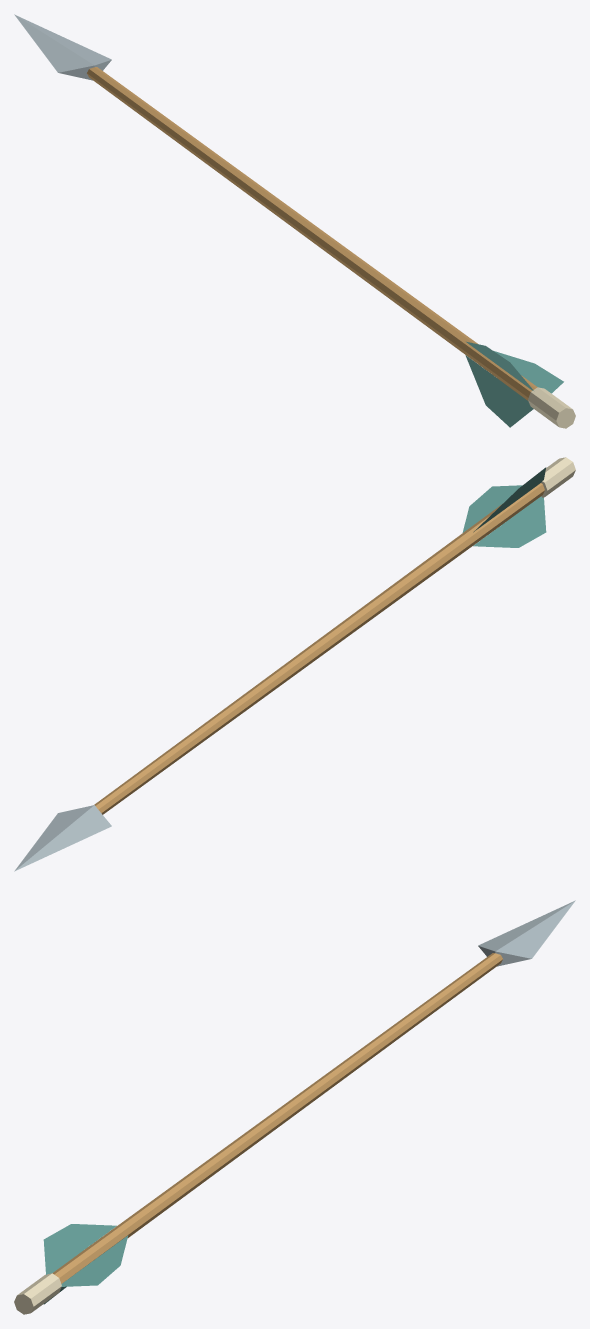
File: ranger_arrow.glb
The picture shows the model from 3 angles, top to bottom: view 1: azimuth 30°, elevation 25°; view 2: azimuth 150°, elevation 25°; view 3: azimuth 330°, elevation 25°; orthographic projection.
Parts seen in each view (by area): view 1: Shaft, Fletching, Broadhead, Nock; view 2: Shaft, Fletching, Broadhead, Nock; view 3: Shaft, Fletching, Broadhead, Nock.
Part boxes in pixels (x1,y1,x2,y2): Shaft: (87, 67, 537, 400); Fletching: (465, 341, 563, 427); Broadhead: (14, 14, 111, 80); Nock: (528, 387, 575, 428); Shaft: (94, 483, 544, 814); Fletching: (462, 467, 546, 547); Broadhead: (14, 805, 111, 871); Nock: (541, 457, 575, 497); Shaft: (52, 953, 502, 1283); Fletching: (43, 1224, 128, 1304); Broadhead: (478, 900, 575, 966); Nock: (14, 1273, 61, 1314).
Size of the model in its own units: 0.077 by 0.0762 by 1.16.
